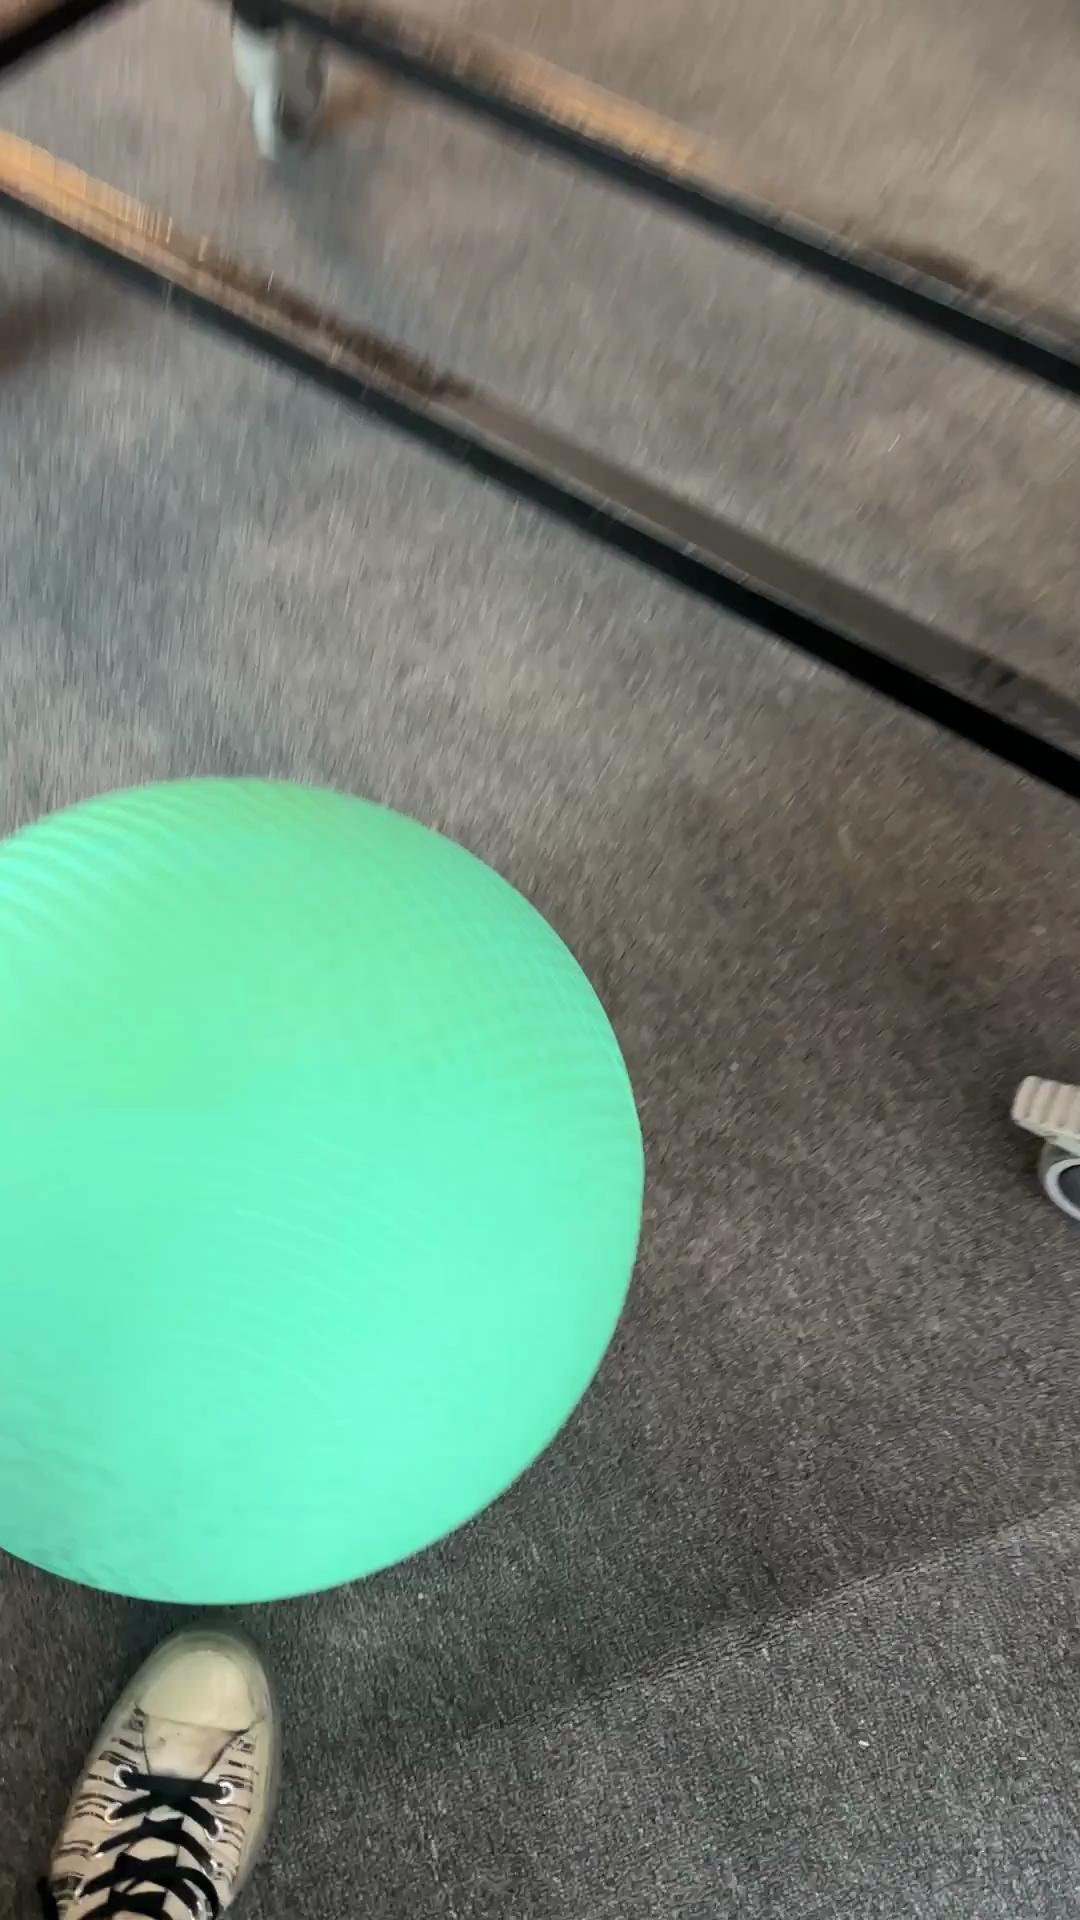ALGAE: (1, 771, 646, 1607)
